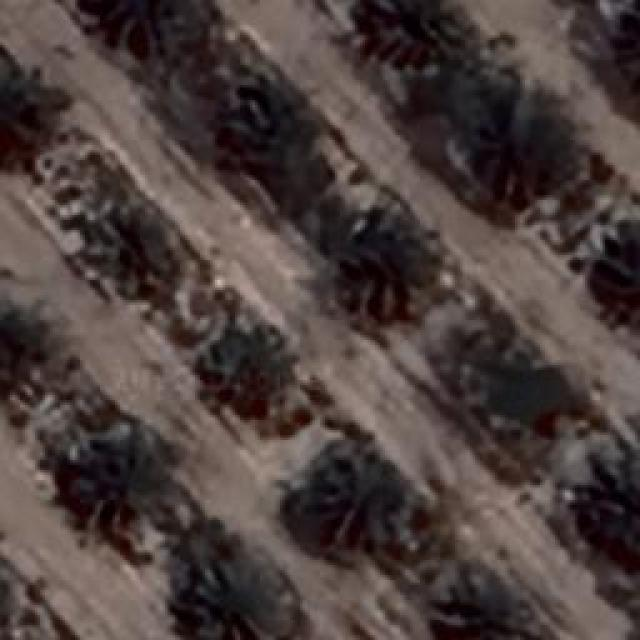PalmTree: (308, 449, 428, 559), (55, 440, 175, 535), (328, 218, 432, 318), (21, 93, 58, 354), (176, 555, 286, 640), (481, 108, 571, 204), (220, 86, 312, 176), (567, 458, 640, 571), (361, 0, 464, 78), (100, 200, 185, 288), (86, 0, 192, 68), (200, 330, 282, 408), (446, 585, 552, 640), (585, 221, 640, 321), (613, 0, 640, 106), (621, 0, 640, 100)
